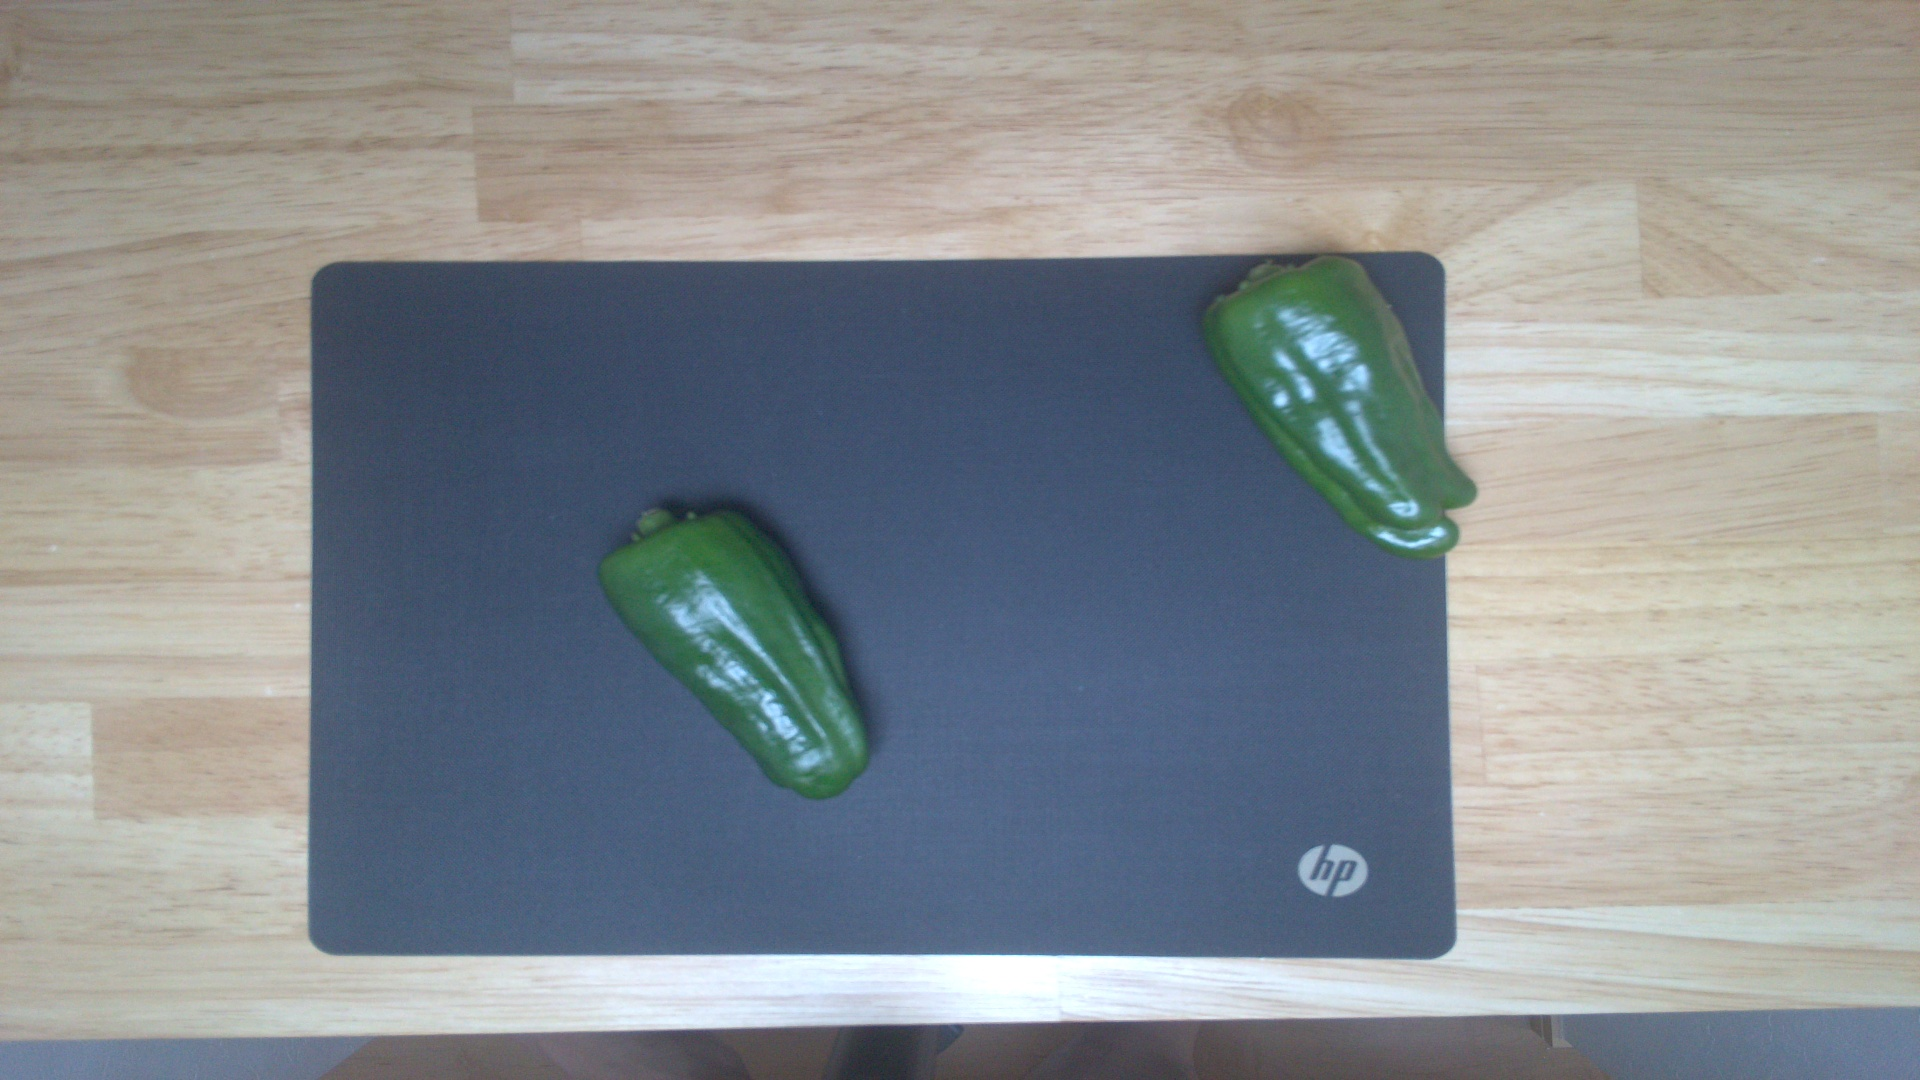Piman: (1201, 248, 1478, 567), (599, 500, 876, 798)
